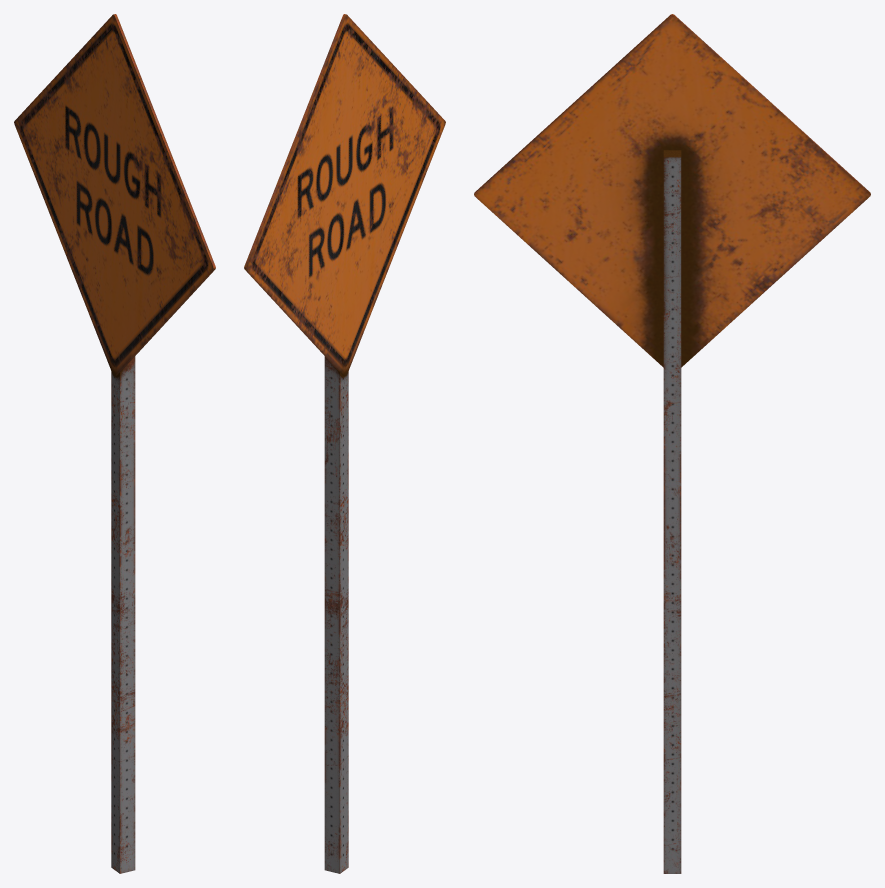
Rendered from SignRough.fbx.
The picture shows the model from 3 angles, left to right: view 1: azimuth 30°, elevation 25°; view 2: azimuth 150°, elevation 25°; view 3: azimuth 270°, elevation 25°; orthographic projection.
Parts seen in each view (by area): view 1: pCube45, pCube112; view 2: pCube45, pCube112; view 3: pCube45, pCube112.
Part boxes in pixels (bbox=[...]): pCube45: bbox=[14, 14, 215, 376]; pCube112: bbox=[111, 356, 135, 873]; pCube45: bbox=[244, 14, 445, 376]; pCube112: bbox=[324, 356, 348, 873]; pCube45: bbox=[474, 14, 870, 367]; pCube112: bbox=[663, 150, 681, 873].
Size of the model in its own units: 0.0592 by 1.2 by 2.83.
